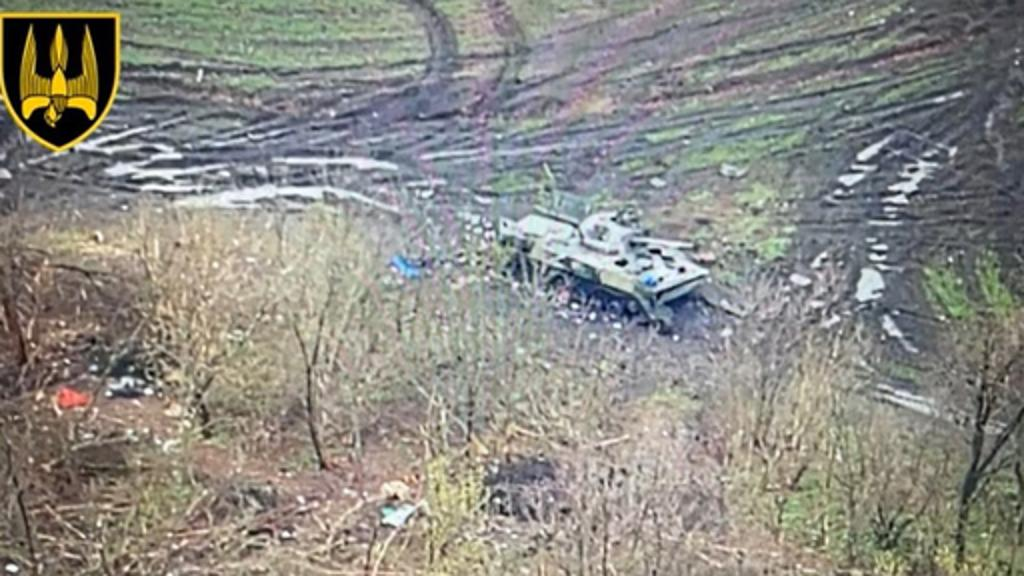APC-IFV: (494, 192, 714, 332)
